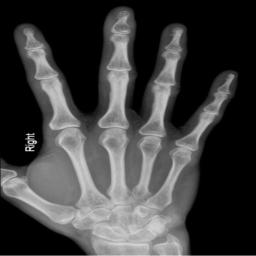cancer: (113, 20, 130, 34)
